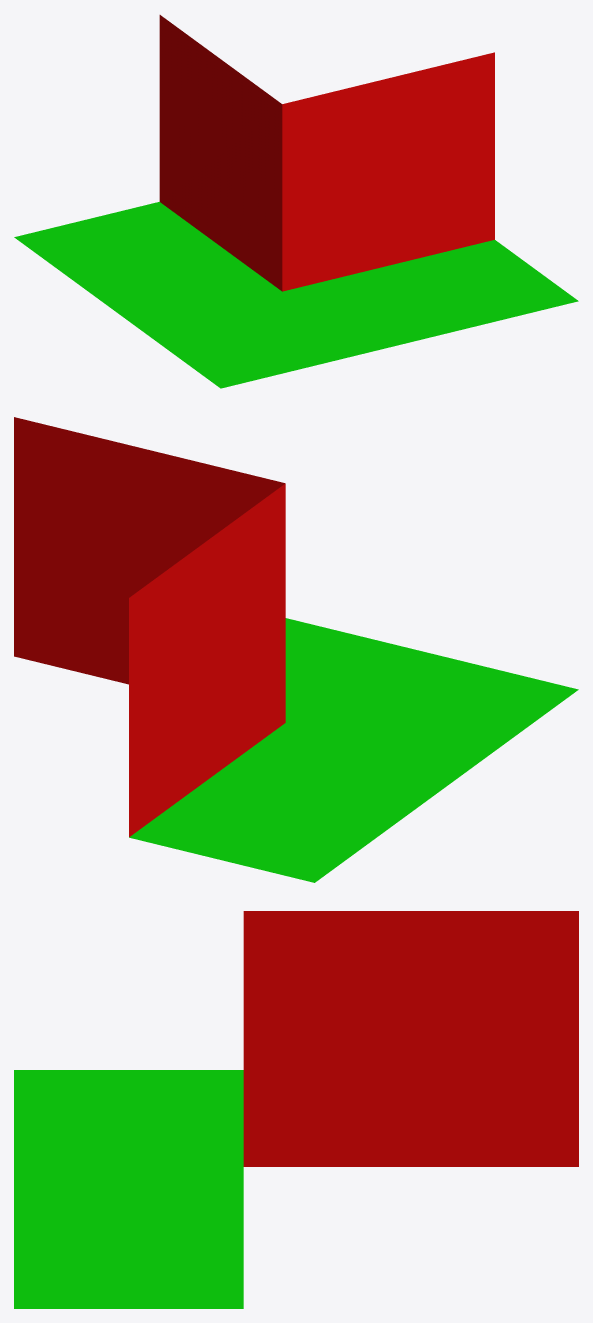
3 views of the same model, one above another, from view 1: azimuth 30°, elevation 25°; view 2: azimuth 150°, elevation 25°; view 3: azimuth 270°, elevation 25° (orthographic). The views are drawn at different scales.
Parts seen in each view (by area): view 1: None_A_W_A_E_W_W_E_E_None; view 2: None_A_W_A_E_W_W_E_E_None; view 3: None_A_W_A_E_W_W_E_E_None.
Boxes of the visible parts, x1,y1,x2,y2 form: None_A_W_A_E_W_W_E_E_None: [14, 15, 578, 388]; None_A_W_A_E_W_W_E_E_None: [14, 417, 578, 882]; None_A_W_A_E_W_W_E_E_None: [14, 911, 578, 1308].
Size of the model in its own units: 100 by 50 by 100.
